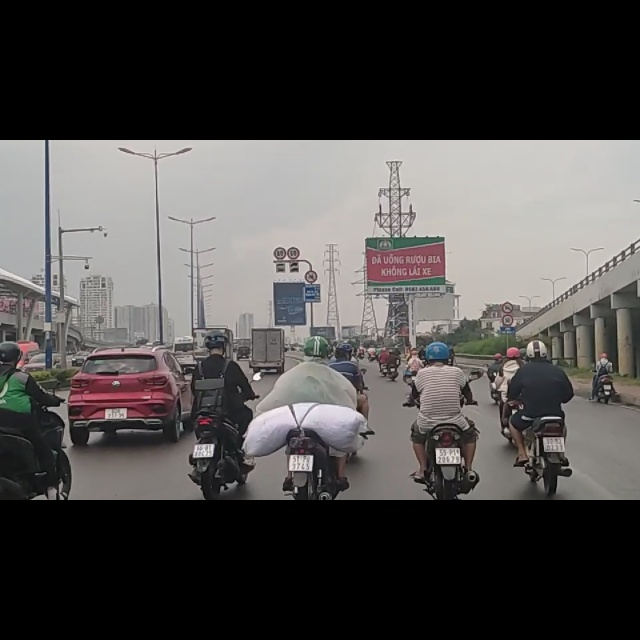Tốc độ tối đa cho phép 40km/h: (274, 247, 288, 259)
Tốc độ tối đa cho phép 60km/h: (287, 246, 299, 258)
